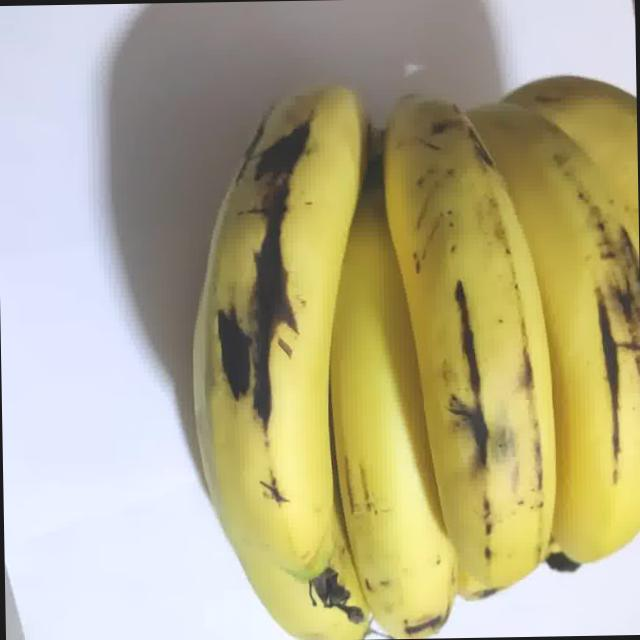banana_pacche: (111, 7, 640, 640)
